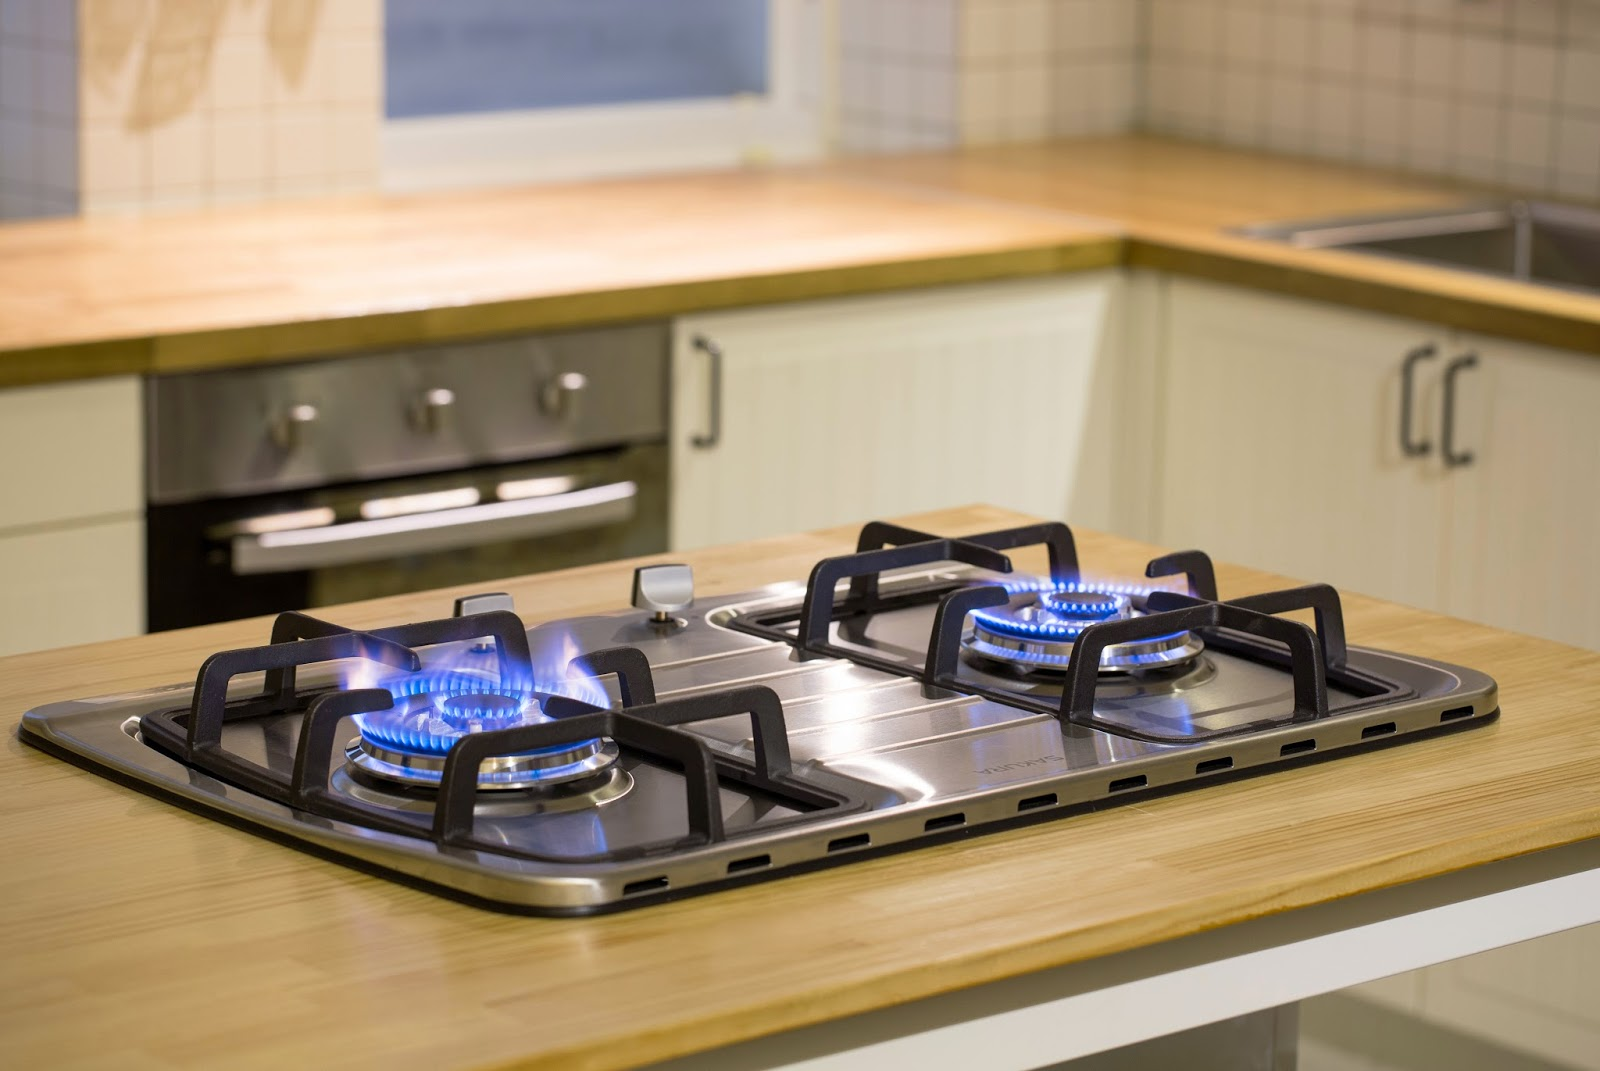gasoven: (17, 512, 1516, 926)
